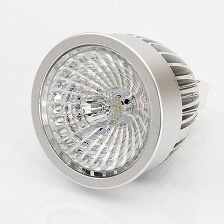light_bulb: (27, 27, 211, 194)
